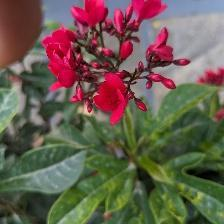jatropha: (97, 74, 132, 125)
